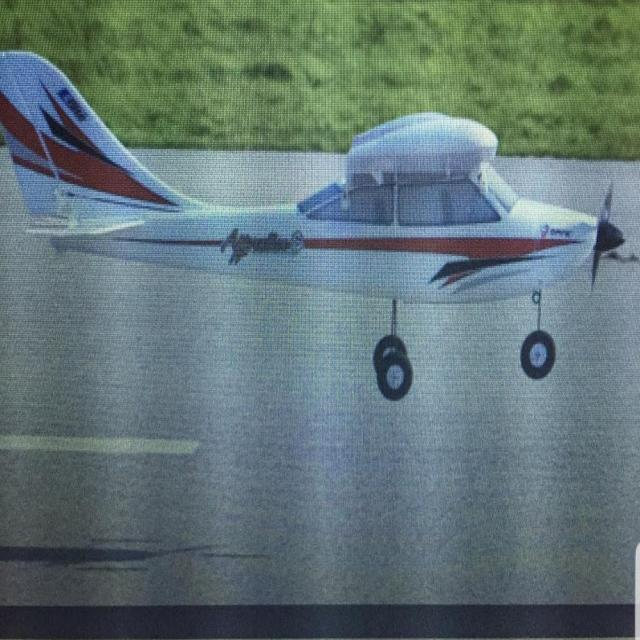iha: (0, 45, 630, 401)
